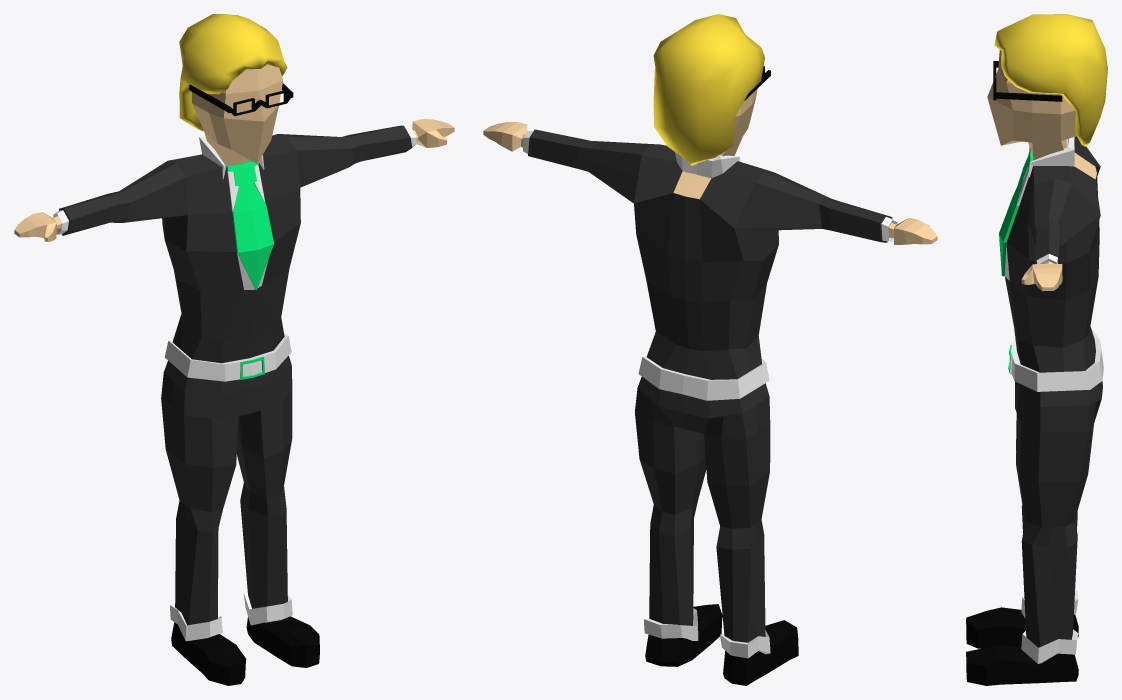
File: npc1.fbx
3 renders of one model, left to right at view 1: azimuth 30°, elevation 25°; view 2: azimuth 150°, elevation 25°; view 3: azimuth 270°, elevation 25°, orthographic. The views are drawn at different scales.
Visible parts, largest first — view 1: Cube.001, Cube.002; view 2: Cube.001, Cube.002; view 3: Cube.001, Cube.002.
Part boxes in pixels (x1,y1,x2,y2): Cube.001: (14, 64, 454, 685); Cube.002: (179, 14, 287, 131); Cube.001: (483, 66, 937, 685); Cube.002: (653, 14, 764, 165); Cube.001: (966, 50, 1103, 685); Cube.002: (994, 14, 1107, 146).
Bounding box in the file's own units: 1330 × 1832 × 365.
